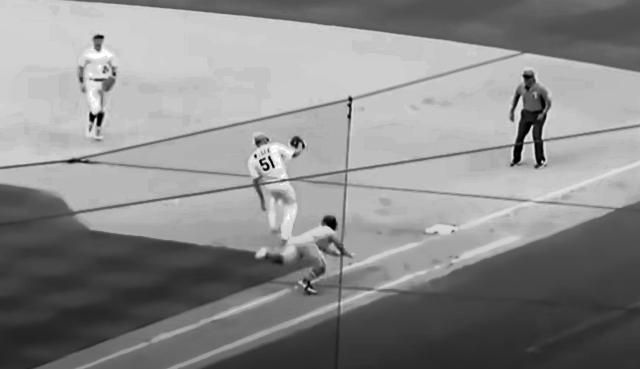jatuh: (248, 206, 358, 299)
